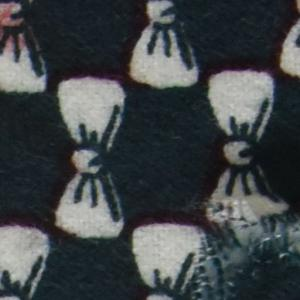Damage: (178, 192, 300, 300)
Stain: (2, 1, 36, 57)
